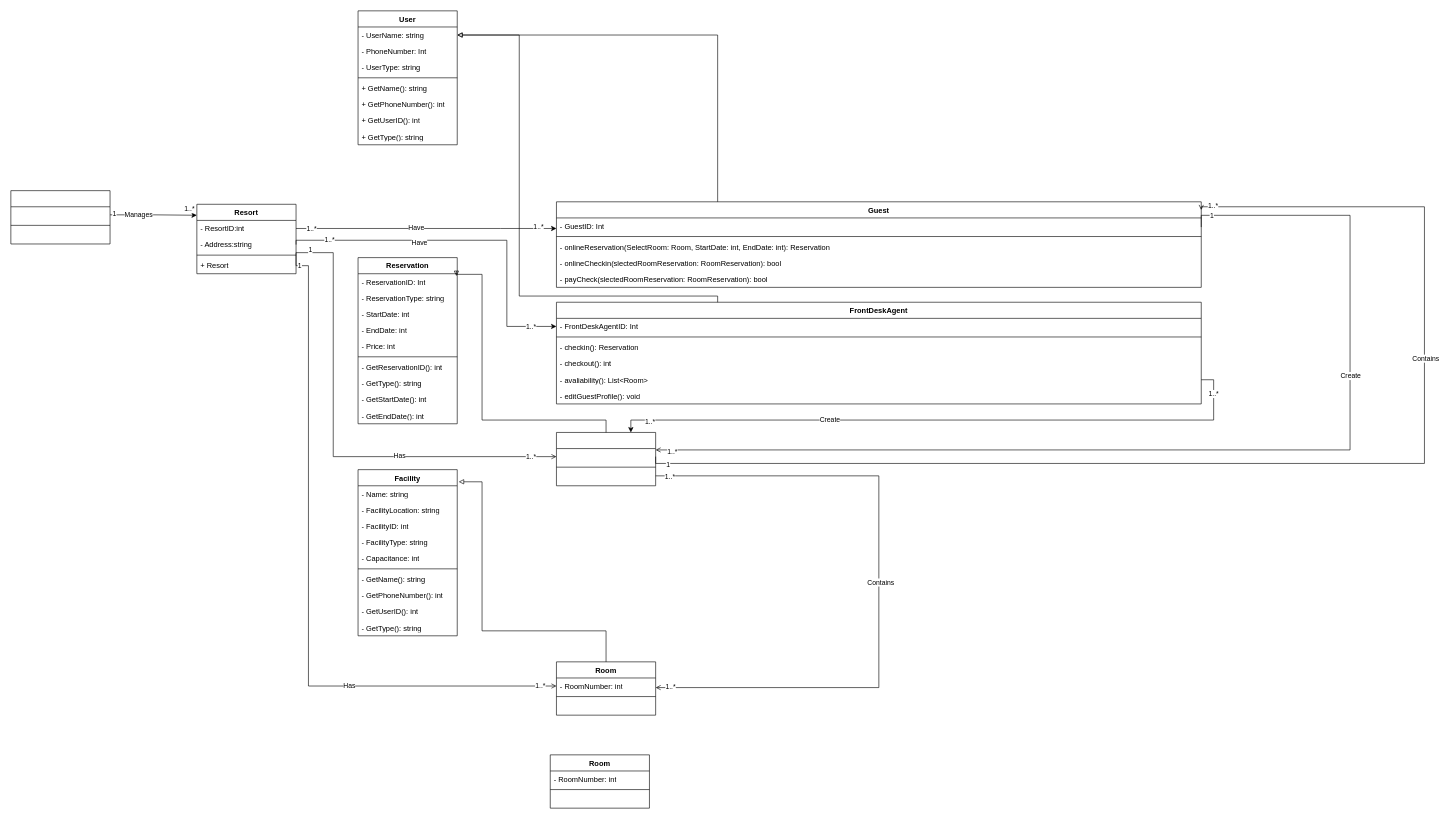
Image size: 1450x821. Some labels were removed from this diagram. The shapes that lost their labels are listed below. From the top down, each one's box as (x1, y1, x2, y2) in pixels, then its label:
(10, 190, 110, 244): ResortManagementSystem
(556, 432, 656, 486): RoomRersevation
